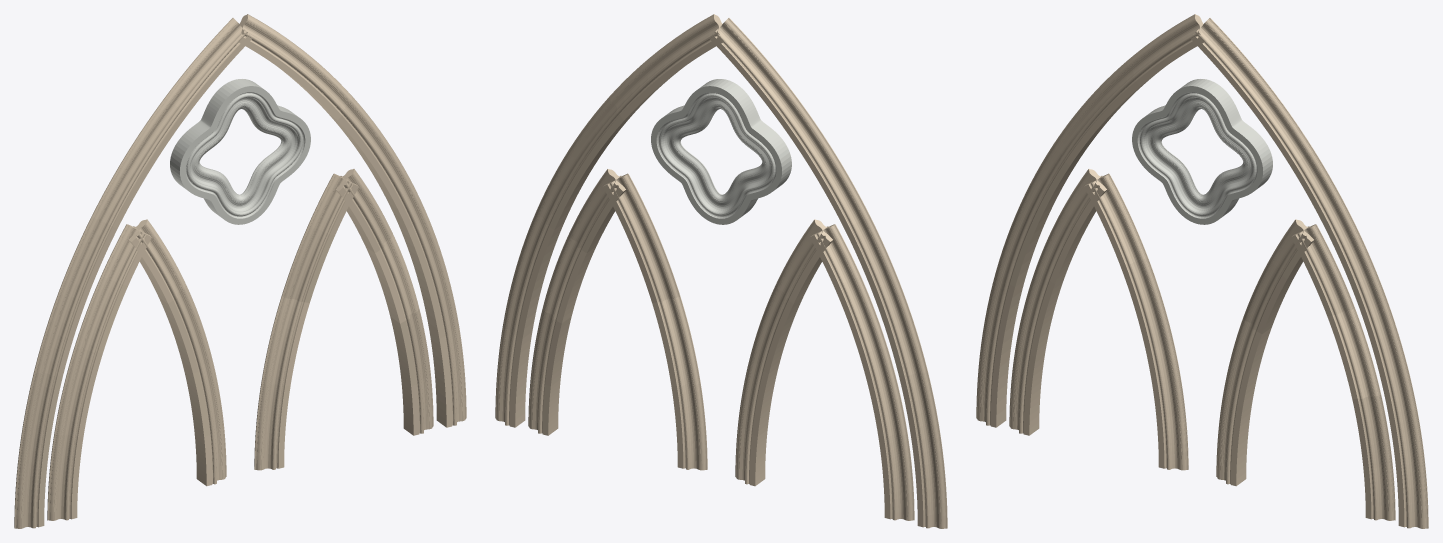
Rendered from R46_WINDOW_HEAD_29_STONE_EXPERIMENT.glb.
3 renders of one model, left to right at view 1: azimuth 30°, elevation 25°; view 2: azimuth 150°, elevation 25°; view 3: azimuth 330°, elevation 25°, orthographic.
Parts seen in each view (by area): view 1: R46_OUTER_CROWN_KEYSTONE_EXPERIMENTAL, R46_OUTER_left_COURSE_02, R46_OUTER_left_COURSE_01, R46_OUTER_right_COURSE_02, R46_OUTER_left_COURSE_03, R46_RIGHT_LANCET_CROWN_KEYSTONE_EXPERIMENTAL, R46_LEFT_LANCET_CROWN_KEYSTONE_EXPERIMENTAL, R46_OUTER_right_COURSE_03, R46_OUTER_right_COURSE_04, R46_LEFT_LANCET_left_COURSE_02, R46_RIGHT_LANCET_left_COURSE_02, R46_RIGHT_LANCET_left_COURSE_01 (+17 smaller); view 2: R46_OUTER_CROWN_KEYSTONE_EXPERIMENTAL, R46_OUTER_left_COURSE_02, R46_OUTER_left_COURSE_01, R46_OUTER_right_COURSE_02, R46_OUTER_left_COURSE_03, R46_LEFT_LANCET_CROWN_KEYSTONE_EXPERIMENTAL, R46_RIGHT_LANCET_CROWN_KEYSTONE_EXPERIMENTAL, R46_OUTER_right_COURSE_03, R46_OUTER_right_COURSE_04, R46_LEFT_LANCET_left_COURSE_02, R46_RIGHT_LANCET_left_COURSE_02, R46_RIGHT_LANCET_left_COURSE_01 (+17 smaller); view 3: R46_OUTER_CROWN_KEYSTONE_EXPERIMENTAL, R46_OUTER_right_COURSE_02, R46_OUTER_left_COURSE_01, R46_OUTER_left_COURSE_02, R46_OUTER_right_COURSE_03, R46_LEFT_LANCET_CROWN_KEYSTONE_EXPERIMENTAL, R46_RIGHT_LANCET_CROWN_KEYSTONE_EXPERIMENTAL, R46_OUTER_left_COURSE_03, R46_OUTER_right_COURSE_04, R46_LEFT_LANCET_right_COURSE_02, R46_RIGHT_LANCET_right_COURSE_02, R46_LEFT_LANCET_left_COURSE_01 (+17 smaller).
Part boxes in pixels (x1,y1,x2,y2): R46_OUTER_CROWN_KEYSTONE_EXPERIMENTAL: (165, 14, 352, 120); R46_OUTER_left_COURSE_02: (34, 217, 117, 376); R46_OUTER_left_COURSE_01: (14, 372, 62, 528); R46_OUTER_right_COURSE_02: (328, 96, 425, 229); R46_OUTER_left_COURSE_03: (91, 98, 187, 228); R46_RIGHT_LANCET_CROWN_KEYSTONE_EXPERIMENTAL: (308, 169, 392, 253); R46_LEFT_LANCET_CROWN_KEYSTONE_EXPERIMENTAL: (101, 219, 185, 303); R46_OUTER_right_COURSE_03: (398, 211, 458, 338); R46_OUTER_right_COURSE_04: (429, 325, 466, 427); R46_LEFT_LANCET_left_COURSE_02: (54, 347, 102, 436); R46_RIGHT_LANCET_left_COURSE_02: (261, 296, 309, 386); R46_RIGHT_LANCET_left_COURSE_01: (254, 383, 290, 470); R46_OUTER_CROWN_KEYSTONE_EXPERIMENTAL: (609, 14, 796, 120); R46_OUTER_left_COURSE_02: (844, 216, 927, 376); R46_OUTER_left_COURSE_01: (899, 372, 947, 528); R46_OUTER_right_COURSE_02: (536, 96, 633, 229); R46_OUTER_left_COURSE_03: (774, 98, 870, 228); R46_LEFT_LANCET_CROWN_KEYSTONE_EXPERIMENTAL: (776, 219, 860, 303); R46_RIGHT_LANCET_CROWN_KEYSTONE_EXPERIMENTAL: (569, 169, 653, 253); R46_OUTER_right_COURSE_03: (503, 211, 563, 338); R46_OUTER_right_COURSE_04: (495, 325, 532, 427); R46_LEFT_LANCET_left_COURSE_02: (859, 347, 907, 436); R46_RIGHT_LANCET_left_COURSE_02: (652, 296, 700, 386); R46_RIGHT_LANCET_left_COURSE_01: (671, 383, 707, 470); R46_OUTER_CROWN_KEYSTONE_EXPERIMENTAL: (1127, 14, 1314, 164); R46_OUTER_right_COURSE_02: (1290, 151, 1387, 308); R46_OUTER_left_COURSE_01: (976, 271, 1024, 427); R46_OUTER_left_COURSE_02: (996, 144, 1079, 286); R46_OUTER_right_COURSE_03: (1360, 301, 1420, 434); R46_LEFT_LANCET_CROWN_KEYSTONE_EXPERIMENTAL: (1063, 169, 1147, 266); R46_RIGHT_LANCET_CROWN_KEYSTONE_EXPERIMENTAL: (1270, 219, 1354, 316); R46_OUTER_left_COURSE_03: (1053, 61, 1148, 165); R46_OUTER_right_COURSE_04: (1391, 431, 1428, 528); R46_LEFT_LANCET_right_COURSE_02: (1120, 258, 1174, 348); R46_RIGHT_LANCET_right_COURSE_02: (1327, 308, 1381, 398); R46_LEFT_LANCET_left_COURSE_01: (1009, 344, 1045, 435).
Size of the model in its own units: 2.05 by 1.98 by 0.0789.
